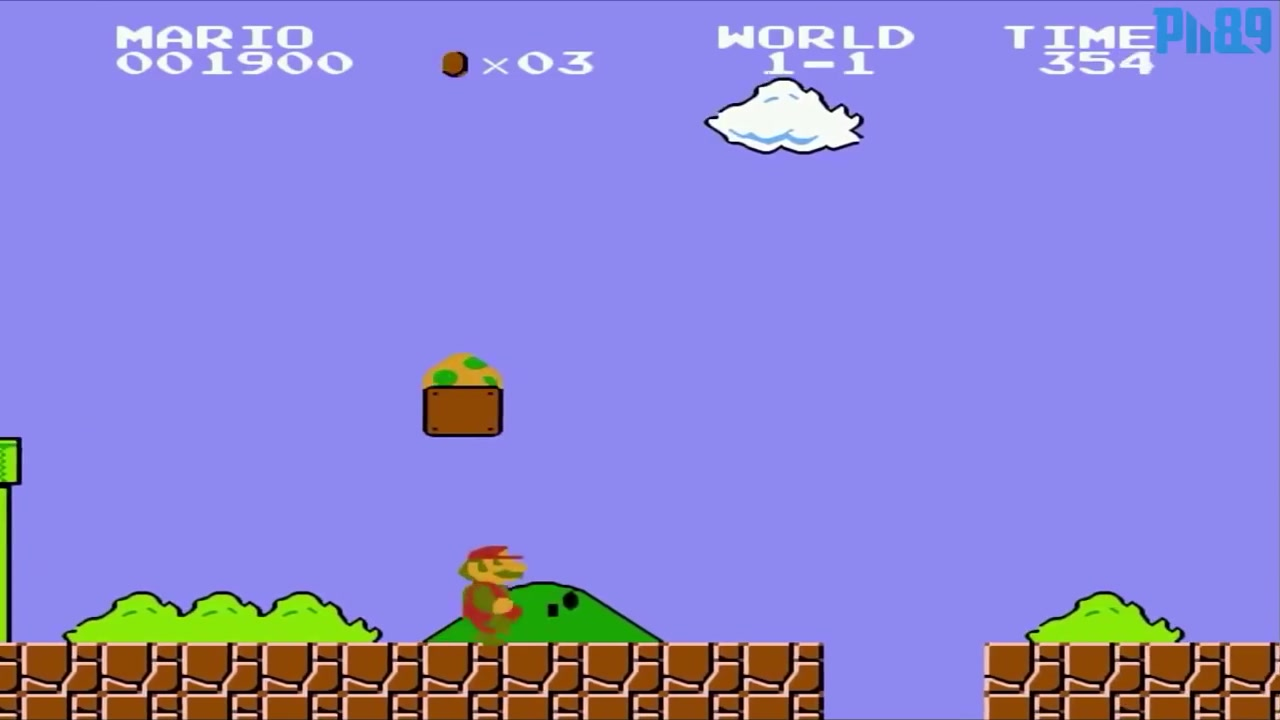mario: (451, 532, 534, 643)
